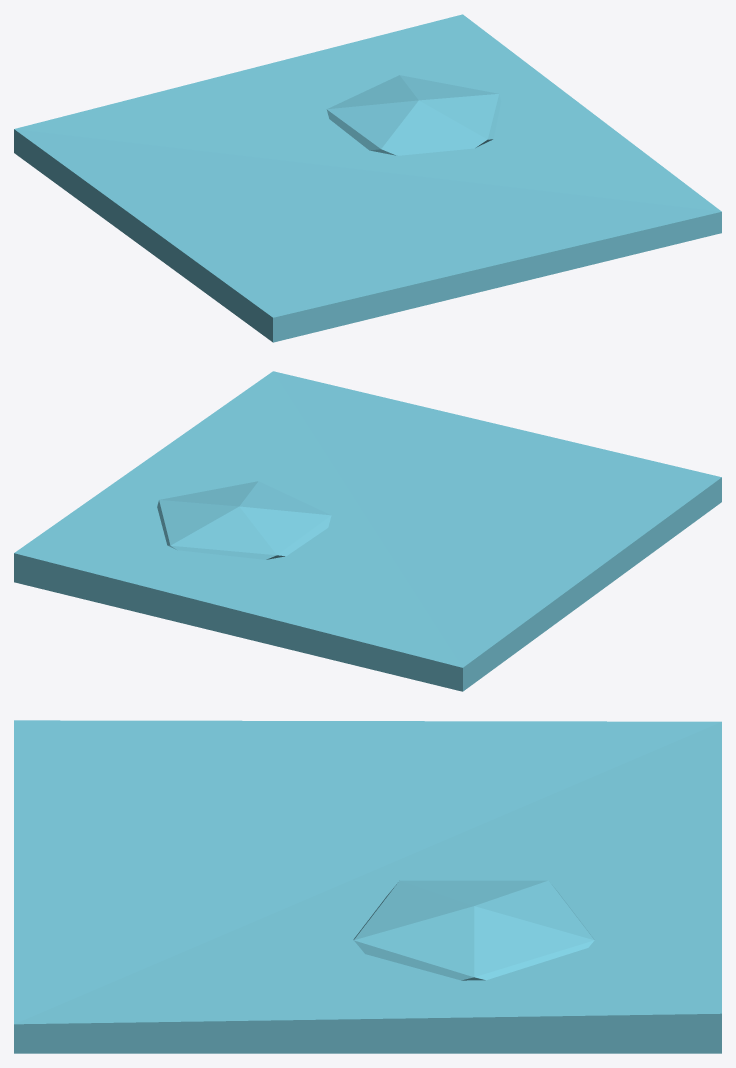
The model's file is SM_Tile_WaterTile.fbx.
3 renders of one model, top to bottom at view 1: azimuth 30°, elevation 25°; view 2: azimuth 150°, elevation 25°; view 3: azimuth 270°, elevation 25°, orthographic. The views are drawn at different scales.
Parts seen in each view (by area): view 1: SM_Tile_WaterTile; view 2: SM_Tile_WaterTile; view 3: SM_Tile_WaterTile.
Boxes of the visible parts, box(x1,y1,x2,y2) form: SM_Tile_WaterTile: box(14, 14, 721, 342); SM_Tile_WaterTile: box(14, 371, 721, 691); SM_Tile_WaterTile: box(14, 720, 721, 1053).
Size of the model in its own units: 2 by 0.2 by 2.
